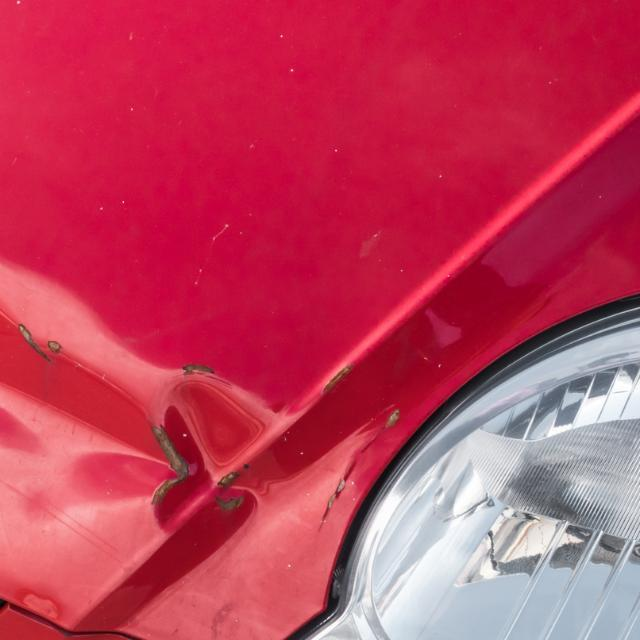Bonnet: (0, 302, 342, 614)
